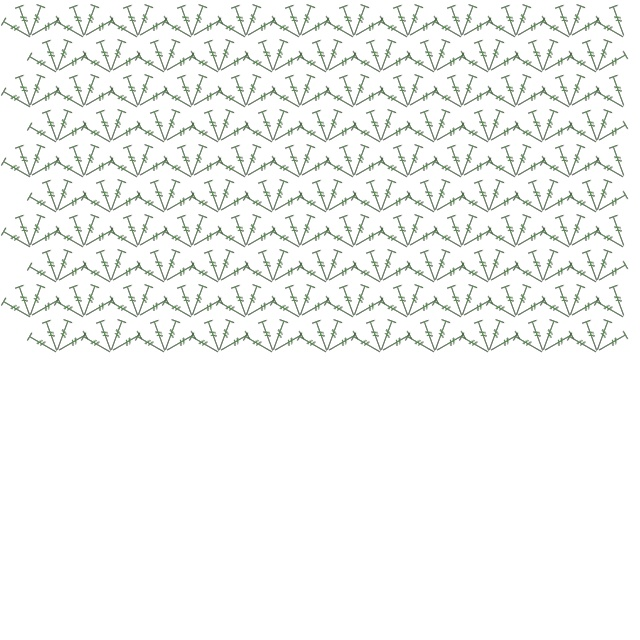fan: (28, 15, 63, 42), (53, 15, 88, 42), (82, 15, 117, 42), (107, 15, 142, 42), (136, 15, 171, 42), (161, 15, 196, 42), (190, 15, 225, 42), (215, 15, 250, 42), (244, 15, 279, 42), (269, 15, 304, 42), (298, 15, 333, 42), (323, 15, 358, 42), (352, 15, 387, 42), (377, 15, 412, 42), (406, 15, 441, 42), (431, 15, 466, 42), (460, 15, 495, 42), (485, 15, 520, 42), (514, 15, 549, 42), (539, 15, 574, 42), (568, 15, 603, 42), (593, 15, 628, 42), (26, 50, 61, 77), (55, 50, 90, 77), (80, 50, 115, 77), (109, 50, 144, 77), (134, 50, 169, 77), (163, 50, 198, 77), (188, 50, 223, 77), (217, 50, 252, 77), (242, 50, 277, 77), (271, 50, 306, 77), (296, 50, 331, 77), (325, 50, 360, 77), (350, 50, 385, 77), (379, 50, 414, 77), (404, 50, 439, 77), (433, 50, 468, 77), (458, 50, 493, 77), (487, 50, 522, 77), (512, 50, 547, 77), (541, 50, 576, 77), (566, 50, 601, 77), (595, 50, 630, 77), (28, 85, 63, 112), (53, 85, 88, 112), (82, 85, 117, 112), (107, 85, 142, 112), (136, 85, 171, 112), (161, 85, 196, 112), (190, 85, 225, 112), (215, 85, 250, 112), (244, 85, 279, 112), (269, 85, 304, 112), (298, 85, 333, 112), (323, 85, 358, 112), (352, 85, 387, 112), (377, 85, 412, 112), (406, 85, 441, 112), (431, 85, 466, 112), (460, 85, 495, 112), (485, 85, 520, 112), (514, 85, 549, 112), (539, 85, 574, 112), (568, 85, 603, 112), (593, 85, 628, 112), (26, 120, 61, 147), (55, 120, 90, 147), (80, 120, 115, 147), (109, 120, 144, 147), (134, 120, 169, 147), (163, 120, 198, 147), (188, 120, 223, 147), (217, 120, 252, 147), (242, 120, 277, 147), (271, 120, 306, 147), (296, 120, 331, 147), (325, 120, 360, 147), (350, 120, 385, 147), (379, 120, 414, 147), (404, 120, 439, 147), (433, 120, 468, 147), (458, 120, 493, 147), (487, 120, 522, 147), (512, 120, 547, 147), (541, 120, 576, 147), (566, 120, 601, 147), (595, 120, 630, 147), (28, 155, 63, 182), (53, 155, 88, 182), (82, 155, 117, 182), (107, 155, 142, 182), (136, 155, 171, 182), (161, 155, 196, 182), (190, 155, 225, 182), (215, 155, 250, 182), (244, 155, 279, 182), (269, 155, 304, 182), (298, 155, 333, 182), (323, 155, 358, 182), (352, 155, 387, 182), (377, 155, 412, 182), (406, 155, 441, 182), (431, 155, 466, 182), (460, 155, 495, 182), (485, 155, 520, 182), (514, 155, 549, 182), (539, 155, 574, 182), (568, 155, 603, 182), (593, 155, 628, 182), (26, 190, 61, 217), (55, 190, 90, 217), (80, 190, 115, 217), (109, 190, 144, 217), (134, 190, 169, 217), (163, 190, 198, 217), (188, 190, 223, 217), (217, 190, 252, 217), (242, 190, 277, 217), (271, 190, 306, 217), (296, 190, 331, 217), (325, 190, 360, 217), (350, 190, 385, 217), (379, 190, 414, 217), (404, 190, 439, 217), (433, 190, 468, 217), (458, 190, 493, 217), (487, 190, 522, 217), (512, 190, 547, 217), (541, 190, 576, 217), (566, 190, 601, 217), (595, 190, 630, 217), (28, 225, 63, 252), (53, 225, 88, 252), (82, 225, 117, 252), (107, 225, 142, 252), (136, 225, 171, 252), (161, 225, 196, 252), (190, 225, 225, 252), (215, 225, 250, 252), (244, 225, 279, 252), (269, 225, 304, 252), (298, 225, 333, 252), (323, 225, 358, 252), (352, 225, 387, 252), (377, 225, 412, 252), (406, 225, 441, 252), (431, 225, 466, 252), (460, 225, 495, 252), (485, 225, 520, 252), (514, 225, 549, 252), (539, 225, 574, 252), (568, 225, 603, 252), (593, 225, 628, 252), (26, 260, 61, 287), (55, 260, 90, 287), (80, 260, 115, 287), (109, 260, 144, 287), (134, 260, 169, 287), (163, 260, 198, 287), (188, 260, 223, 287), (217, 260, 252, 287), (242, 260, 277, 287), (271, 260, 306, 287), (296, 260, 331, 287), (325, 260, 360, 287), (350, 260, 385, 287), (379, 260, 414, 287), (404, 260, 439, 287), (433, 260, 468, 287), (458, 260, 493, 287), (487, 260, 522, 287), (512, 260, 547, 287), (541, 260, 576, 287), (566, 260, 601, 287), (595, 260, 630, 287), (28, 295, 63, 322), (53, 295, 88, 322), (82, 295, 117, 322), (107, 295, 142, 322), (136, 295, 171, 322), (161, 295, 196, 322), (190, 295, 225, 322), (215, 295, 250, 322), (244, 295, 279, 322), (269, 295, 304, 322), (298, 295, 333, 322), (323, 295, 358, 322), (352, 295, 387, 322), (377, 295, 412, 322), (406, 295, 441, 322), (431, 295, 466, 322), (460, 295, 495, 322), (485, 295, 520, 322), (514, 295, 549, 322), (539, 295, 574, 322), (568, 295, 603, 322), (593, 295, 628, 322), (26, 330, 61, 357), (55, 330, 90, 357), (80, 330, 115, 357), (109, 330, 144, 357), (134, 330, 169, 357), (163, 330, 198, 357), (188, 330, 223, 357), (217, 330, 252, 357), (242, 330, 277, 357), (271, 330, 306, 357), (296, 330, 331, 357), (325, 330, 360, 357), (350, 330, 385, 357), (379, 330, 414, 357), (404, 330, 439, 357), (433, 330, 468, 357), (458, 330, 493, 357), (487, 330, 522, 357), (512, 330, 547, 357), (541, 330, 576, 357), (566, 330, 601, 357), (595, 330, 630, 357), (0, 15, 34, 42), (0, 85, 34, 112), (0, 155, 34, 182), (0, 225, 34, 252), (0, 295, 34, 322), (14, 4, 37, 39), (25, 4, 48, 39), (68, 4, 91, 39), (79, 4, 102, 39), (122, 4, 145, 39), (133, 4, 156, 39), (176, 4, 199, 39), (187, 4, 210, 39), (230, 4, 253, 39), (241, 4, 264, 39), (284, 4, 307, 39), (295, 4, 318, 39), (338, 4, 361, 39), (349, 4, 372, 39), (392, 4, 415, 39), (403, 4, 426, 39), (446, 4, 469, 39), (457, 4, 480, 39), (500, 4, 523, 39), (511, 4, 534, 39), (554, 4, 577, 39), (565, 4, 588, 39), (608, 4, 631, 39), (41, 39, 64, 74), (52, 39, 75, 74), (95, 39, 118, 74), (106, 39, 129, 74), (149, 39, 172, 74), (160, 39, 183, 74), (203, 39, 226, 74), (214, 39, 237, 74), (257, 39, 280, 74), (268, 39, 291, 74), (311, 39, 334, 74), (322, 39, 345, 74), (365, 39, 388, 74), (376, 39, 399, 74), (419, 39, 442, 74), (430, 39, 453, 74), (473, 39, 496, 74), (484, 39, 507, 74), (527, 39, 550, 74), (538, 39, 561, 74), (581, 39, 604, 74), (592, 39, 615, 74), (14, 74, 37, 109), (25, 74, 48, 109), (68, 74, 91, 109), (79, 74, 102, 109), (122, 74, 145, 109), (133, 74, 156, 109), (176, 74, 199, 109), (187, 74, 210, 109), (230, 74, 253, 109), (241, 74, 264, 109), (284, 74, 307, 109), (295, 74, 318, 109), (338, 74, 361, 109), (349, 74, 372, 109), (392, 74, 415, 109), (403, 74, 426, 109), (446, 74, 469, 109), (457, 74, 480, 109), (500, 74, 523, 109), (511, 74, 534, 109), (554, 74, 577, 109), (565, 74, 588, 109), (608, 74, 631, 109), (41, 109, 64, 144), (52, 109, 75, 144), (95, 109, 118, 144), (106, 109, 129, 144), (149, 109, 172, 144), (160, 109, 183, 144), (203, 109, 226, 144), (214, 109, 237, 144), (257, 109, 280, 144), (268, 109, 291, 144), (311, 109, 334, 144), (322, 109, 345, 144), (365, 109, 388, 144), (376, 109, 399, 144), (419, 109, 442, 144), (430, 109, 453, 144), (473, 109, 496, 144), (484, 109, 507, 144), (527, 109, 550, 144), (538, 109, 561, 144), (581, 109, 604, 144), (592, 109, 615, 144), (14, 144, 37, 179), (25, 144, 48, 179), (68, 144, 91, 179), (79, 144, 102, 179), (122, 144, 145, 179), (133, 144, 156, 179), (176, 144, 199, 179), (187, 144, 210, 179), (230, 144, 253, 179), (241, 144, 264, 179), (284, 144, 307, 179), (295, 144, 318, 179), (338, 144, 361, 179), (349, 144, 372, 179), (392, 144, 415, 179), (403, 144, 426, 179), (446, 144, 469, 179), (457, 144, 480, 179), (500, 144, 523, 179), (511, 144, 534, 179), (554, 144, 577, 179), (565, 144, 588, 179), (608, 144, 631, 179), (41, 179, 64, 214), (52, 179, 75, 214), (95, 179, 118, 214), (106, 179, 129, 214), (149, 179, 172, 214), (160, 179, 183, 214), (203, 179, 226, 214), (214, 179, 237, 214), (257, 179, 280, 214), (268, 179, 291, 214), (311, 179, 334, 214), (322, 179, 345, 214), (365, 179, 388, 214), (376, 179, 399, 214), (419, 179, 442, 214), (430, 179, 453, 214), (473, 179, 496, 214), (484, 179, 507, 214), (527, 179, 550, 214), (538, 179, 561, 214), (581, 179, 604, 214), (592, 179, 615, 214), (14, 214, 37, 249), (25, 214, 48, 249), (68, 214, 91, 249), (79, 214, 102, 249), (122, 214, 145, 249), (133, 214, 156, 249), (176, 214, 199, 249), (187, 214, 210, 249), (230, 214, 253, 249), (241, 214, 264, 249), (284, 214, 307, 249), (295, 214, 318, 249), (338, 214, 361, 249), (349, 214, 372, 249), (392, 214, 415, 249), (403, 214, 426, 249), (446, 214, 469, 249), (457, 214, 480, 249), (500, 214, 523, 249), (511, 214, 534, 249), (554, 214, 577, 249), (565, 214, 588, 249), (608, 214, 631, 249), (41, 249, 64, 284), (52, 249, 75, 284), (95, 249, 118, 284), (106, 249, 129, 284), (149, 249, 172, 284), (160, 249, 183, 284), (203, 249, 226, 284), (214, 249, 237, 284), (257, 249, 280, 284), (268, 249, 291, 284), (311, 249, 334, 284), (322, 249, 345, 284), (365, 249, 388, 284), (376, 249, 399, 284), (419, 249, 442, 284), (430, 249, 453, 284), (473, 249, 496, 284), (484, 249, 507, 284), (527, 249, 550, 284), (538, 249, 561, 284), (581, 249, 604, 284), (592, 249, 615, 284), (14, 284, 37, 319), (25, 284, 48, 319), (68, 284, 91, 319), (79, 284, 102, 319), (122, 284, 145, 319), (133, 284, 156, 319), (176, 284, 199, 319), (187, 284, 210, 319), (230, 284, 253, 319), (241, 284, 264, 319), (284, 284, 307, 319), (295, 284, 318, 319), (338, 284, 361, 319), (349, 284, 372, 319), (392, 284, 415, 319), (403, 284, 426, 319), (446, 284, 469, 319), (457, 284, 480, 319), (500, 284, 523, 319), (511, 284, 534, 319), (554, 284, 577, 319), (565, 284, 588, 319), (608, 284, 631, 319), (41, 319, 64, 354), (52, 319, 75, 354), (95, 319, 118, 354), (106, 319, 129, 354), (149, 319, 172, 354), (160, 319, 183, 354), (203, 319, 226, 354), (214, 319, 237, 354), (257, 319, 280, 354), (268, 319, 291, 354), (311, 319, 334, 354), (322, 319, 345, 354), (365, 319, 388, 354), (376, 319, 399, 354), (419, 319, 442, 354), (430, 319, 453, 354), (473, 319, 496, 354), (484, 319, 507, 354), (527, 319, 550, 354), (538, 319, 561, 354), (581, 319, 604, 354), (592, 319, 615, 354)
